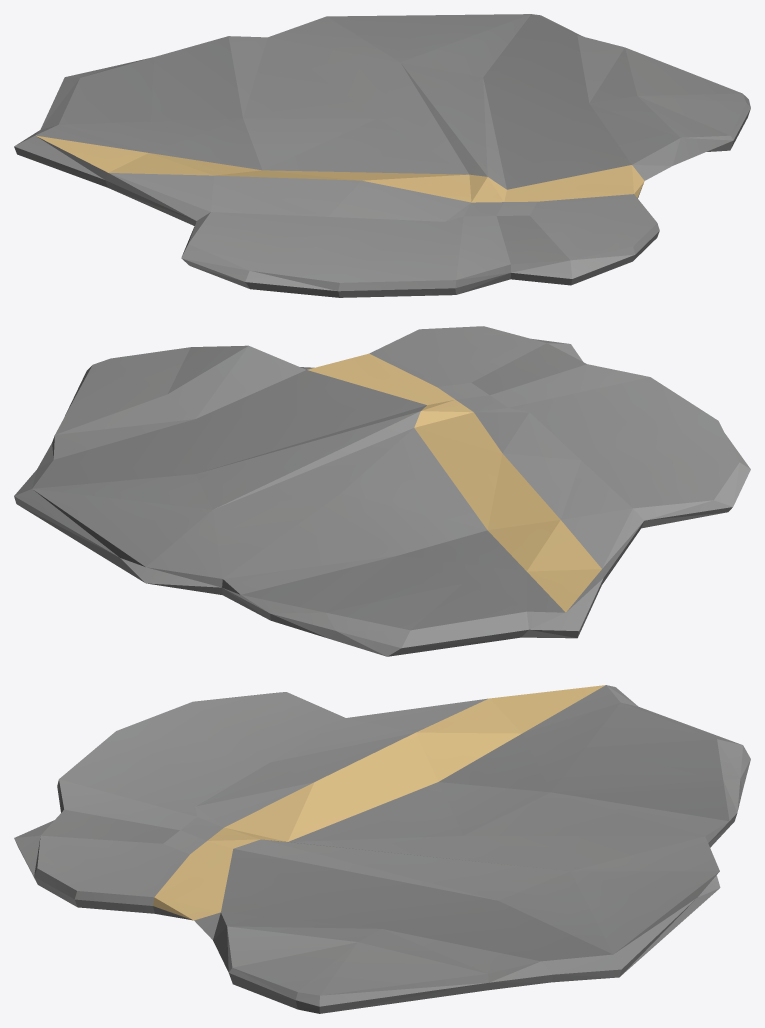
Rendered from road_chunk_1.obj.
The picture shows the model from 3 angles, top to bottom: view 1: azimuth 30°, elevation 25°; view 2: azimuth 150°, elevation 25°; view 3: azimuth 270°, elevation 25°; orthographic projection. The views are drawn at different scales.
Parts seen in each view (by area): view 1: road_chunk_1_Mesh; view 2: road_chunk_1_Mesh; view 3: road_chunk_1_Mesh.
Boxes of the visible parts, <box> form: road_chunk_1_Mesh: <box>14,14,750,297</box>; road_chunk_1_Mesh: <box>14,326,750,656</box>; road_chunk_1_Mesh: <box>14,685,750,1013</box>.
Bounding box in the file's own units: 2.22 × 0.097 × 2.16.
